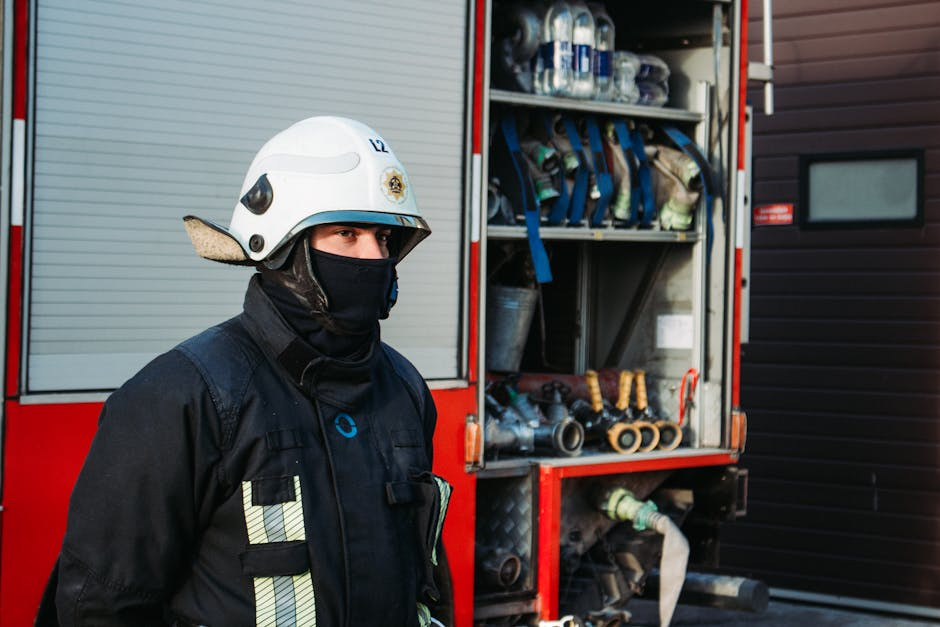safety_helmet: (183, 113, 432, 272)
